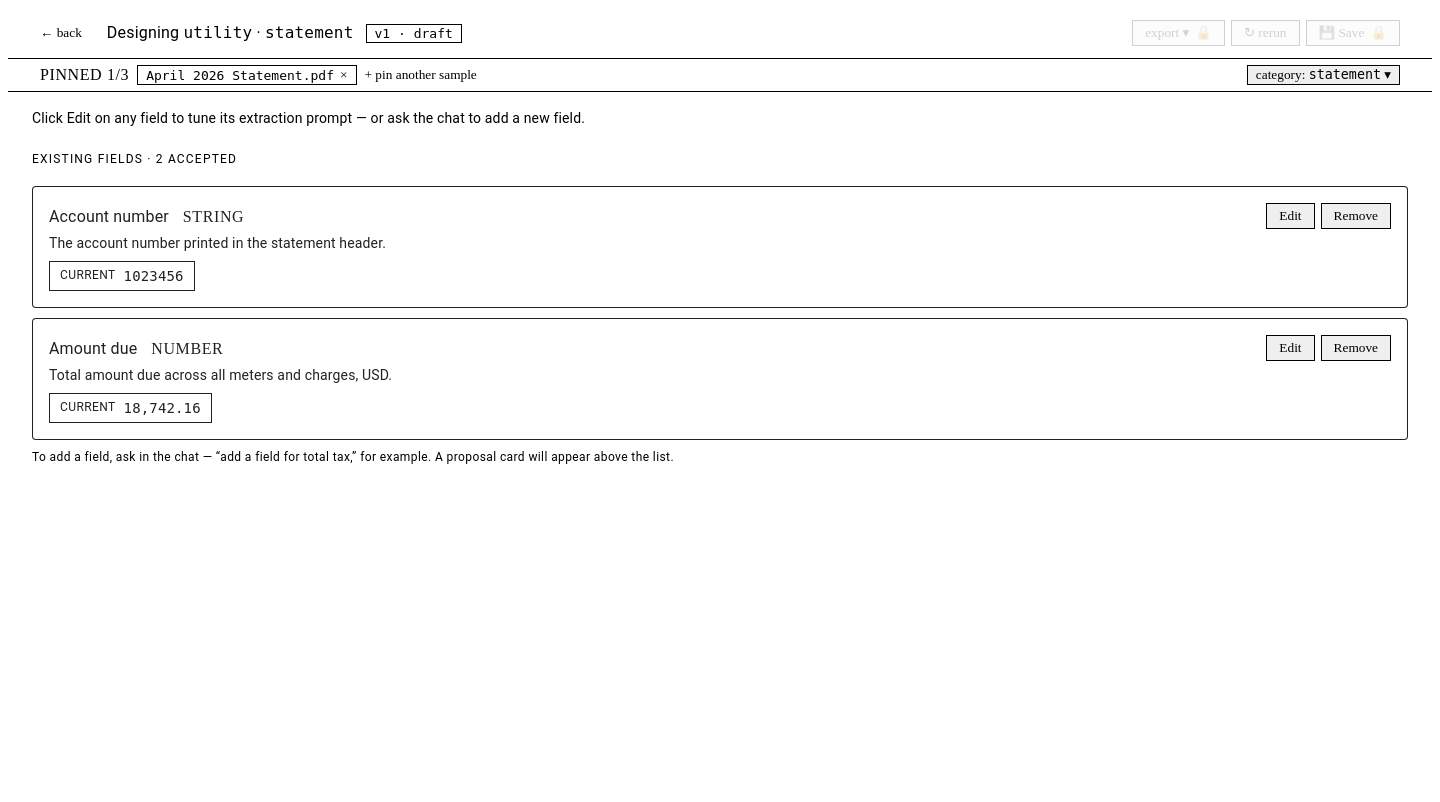
Test: SchemaView (UI-01 Phase 1) › Save commits the edit; the row shows an 'edited' badge + topbar diff counts the edit
The image size is (1440, 802).
Step 1. Click the button with test id "schema-edit-field-account_number" → (1290, 216), box [1266,203,1315,229]
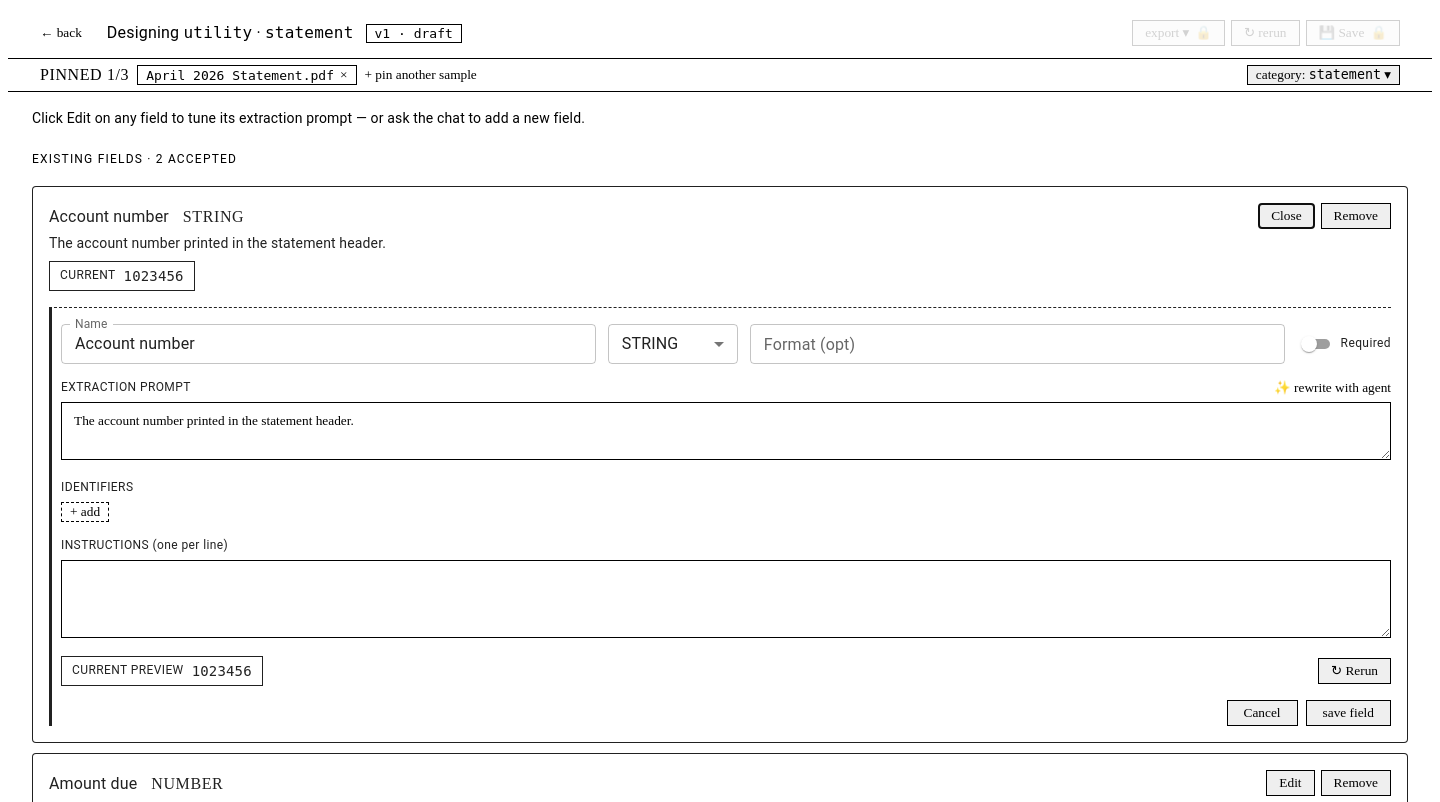
expect the text box named "Extraction prompt" is shown: met
Step 2. Replace the text in the text box named "Extraction prompt" with "Just the account number digits." → (726, 431), box [61,402,1391,460]
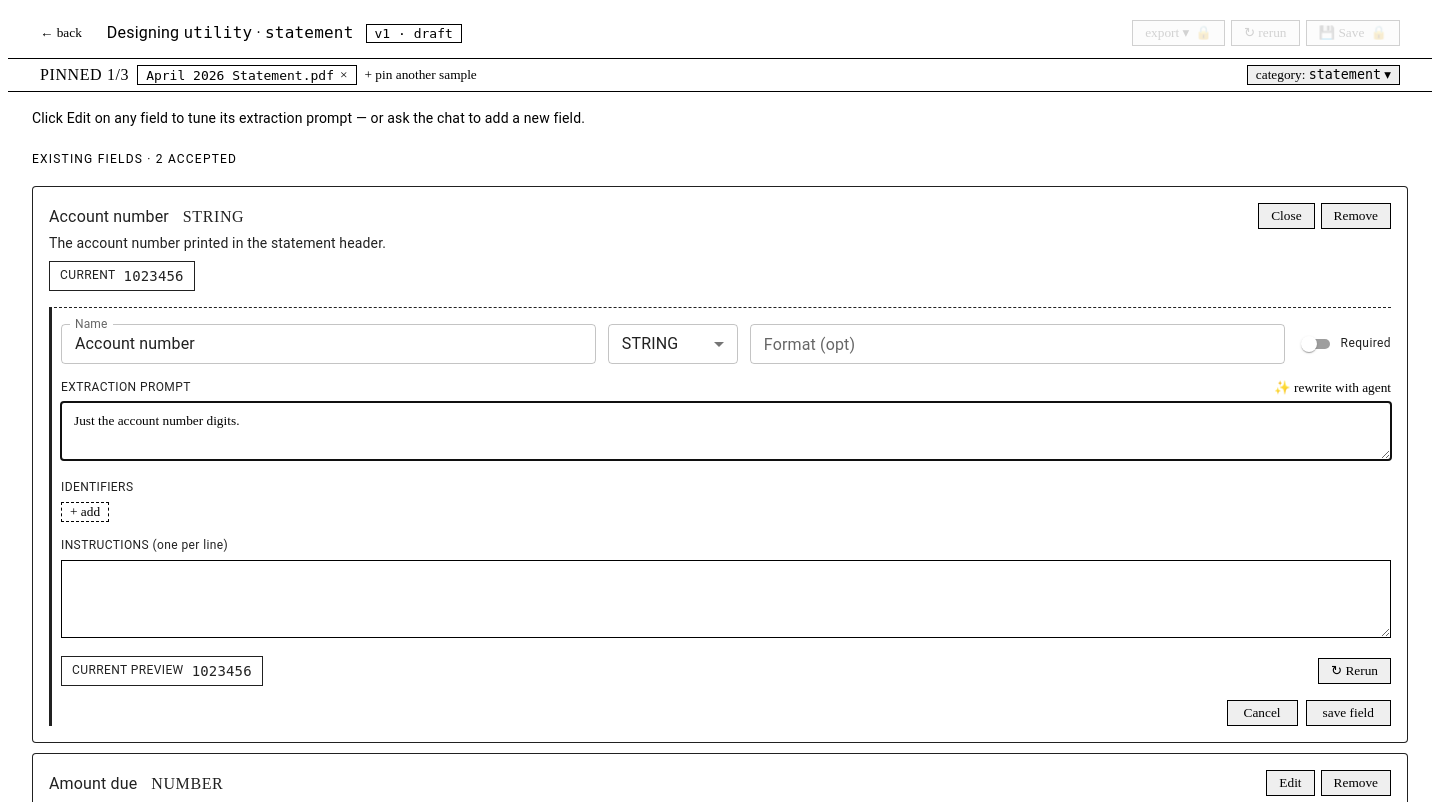
Step 3. Click the button with test id "schema-field-editor-save-account_number" → (1348, 713), box [1306,700,1391,726]
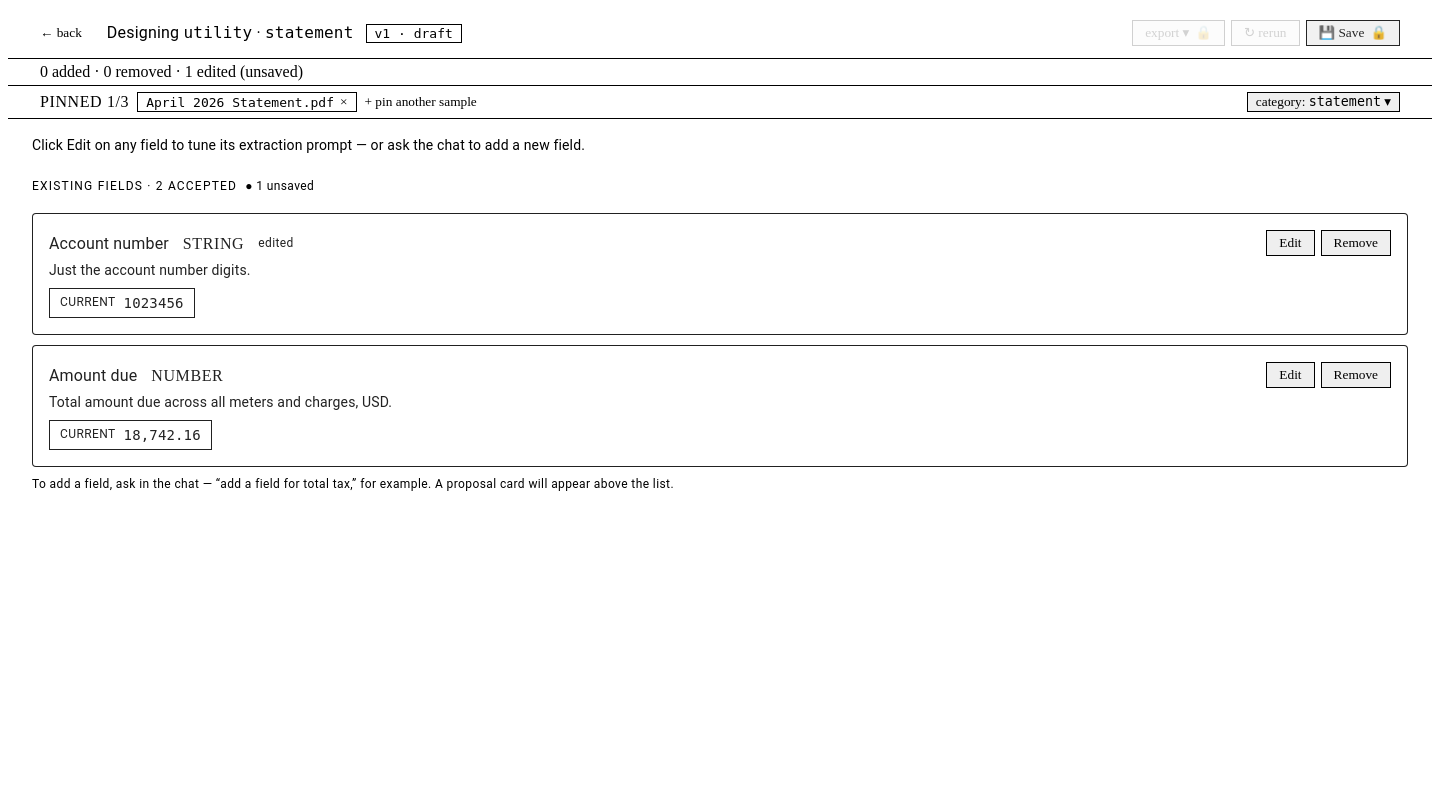
expect the element with test id "schema-field-editor-account_number" is gone: met
expect the text "edited" is shown: met, box [258,234,294,254]
expect the text with test id "extract-topbar-diff" shows "1 edited": met, box [40,63,303,80]
